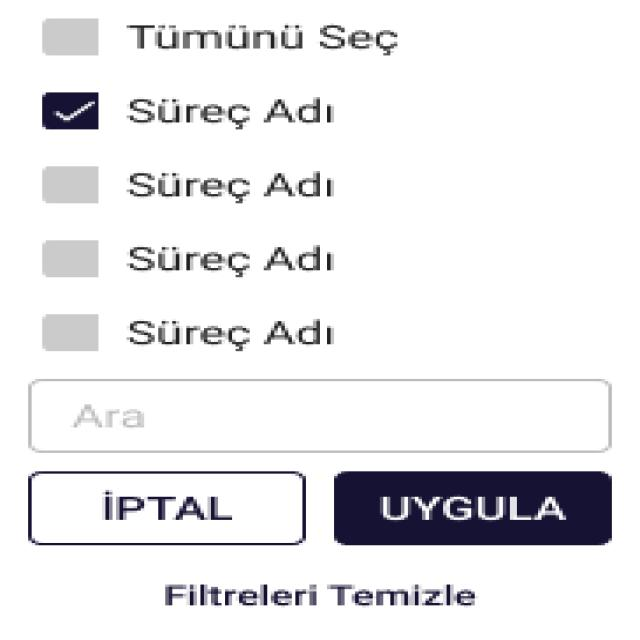QLabel: (158, 581, 480, 612), (375, 492, 567, 522), (100, 488, 236, 526)
VBtn: (330, 468, 615, 548), (24, 469, 309, 548)
VCheckbox: (38, 13, 407, 63), (37, 89, 340, 132), (38, 165, 347, 205), (38, 313, 348, 352), (39, 239, 347, 278)
VTextField: (24, 376, 616, 455)
